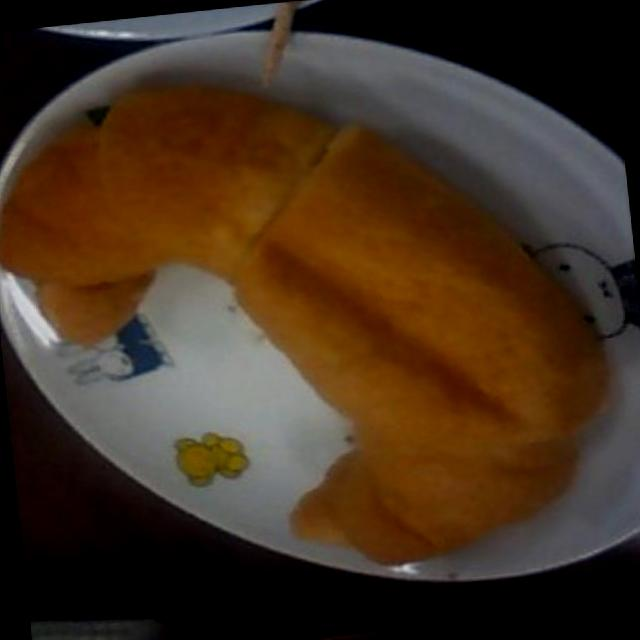Croissant: (0, 47, 630, 640)
